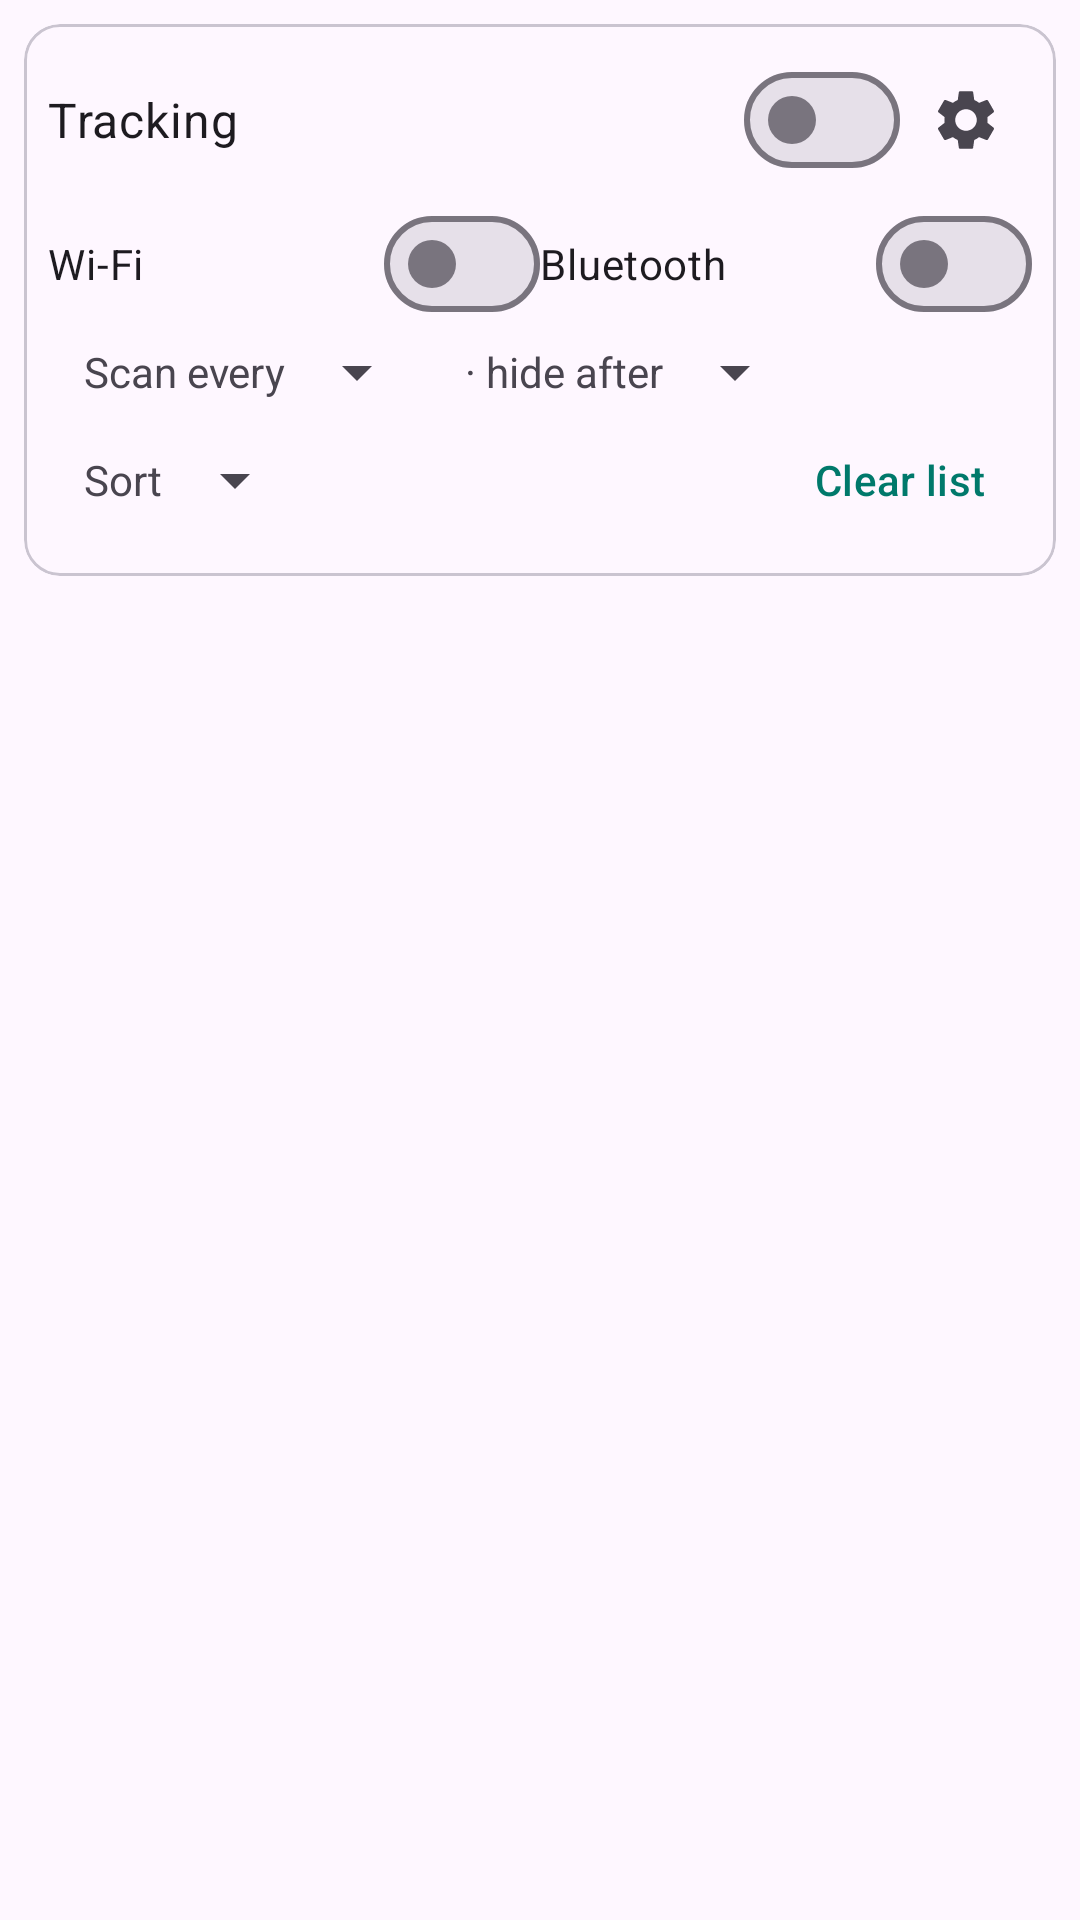

Locate icon controls on the screen. Image size 1080 x 1920, boxes as (x1, y1, x2, y2).
Settings: (938, 91, 994, 149)
